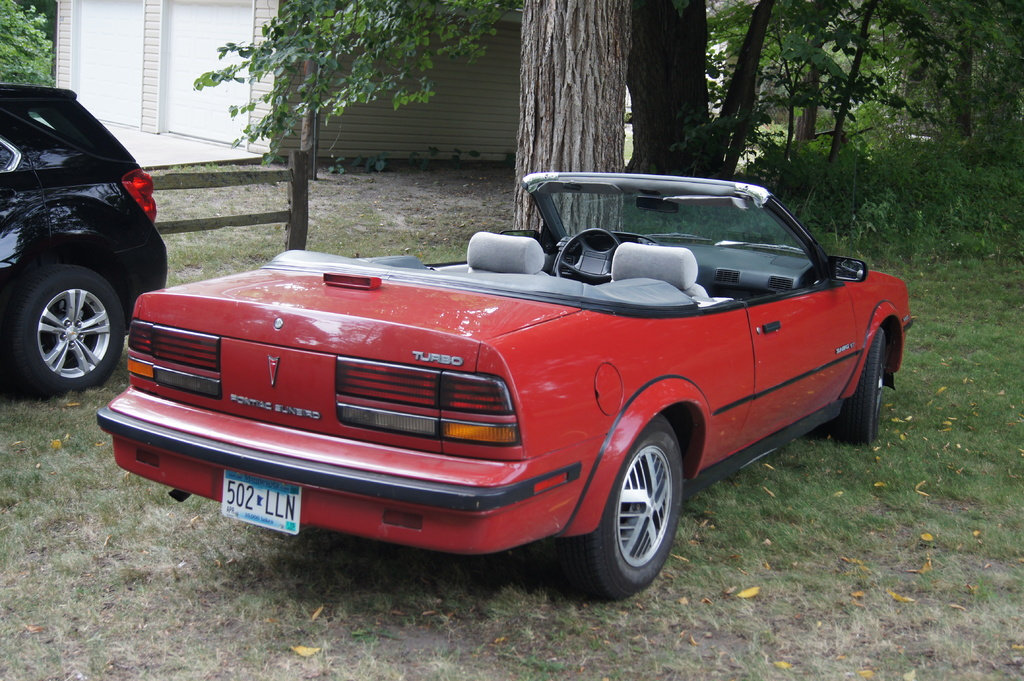Car: (95, 167, 912, 602), (0, 80, 170, 394)
